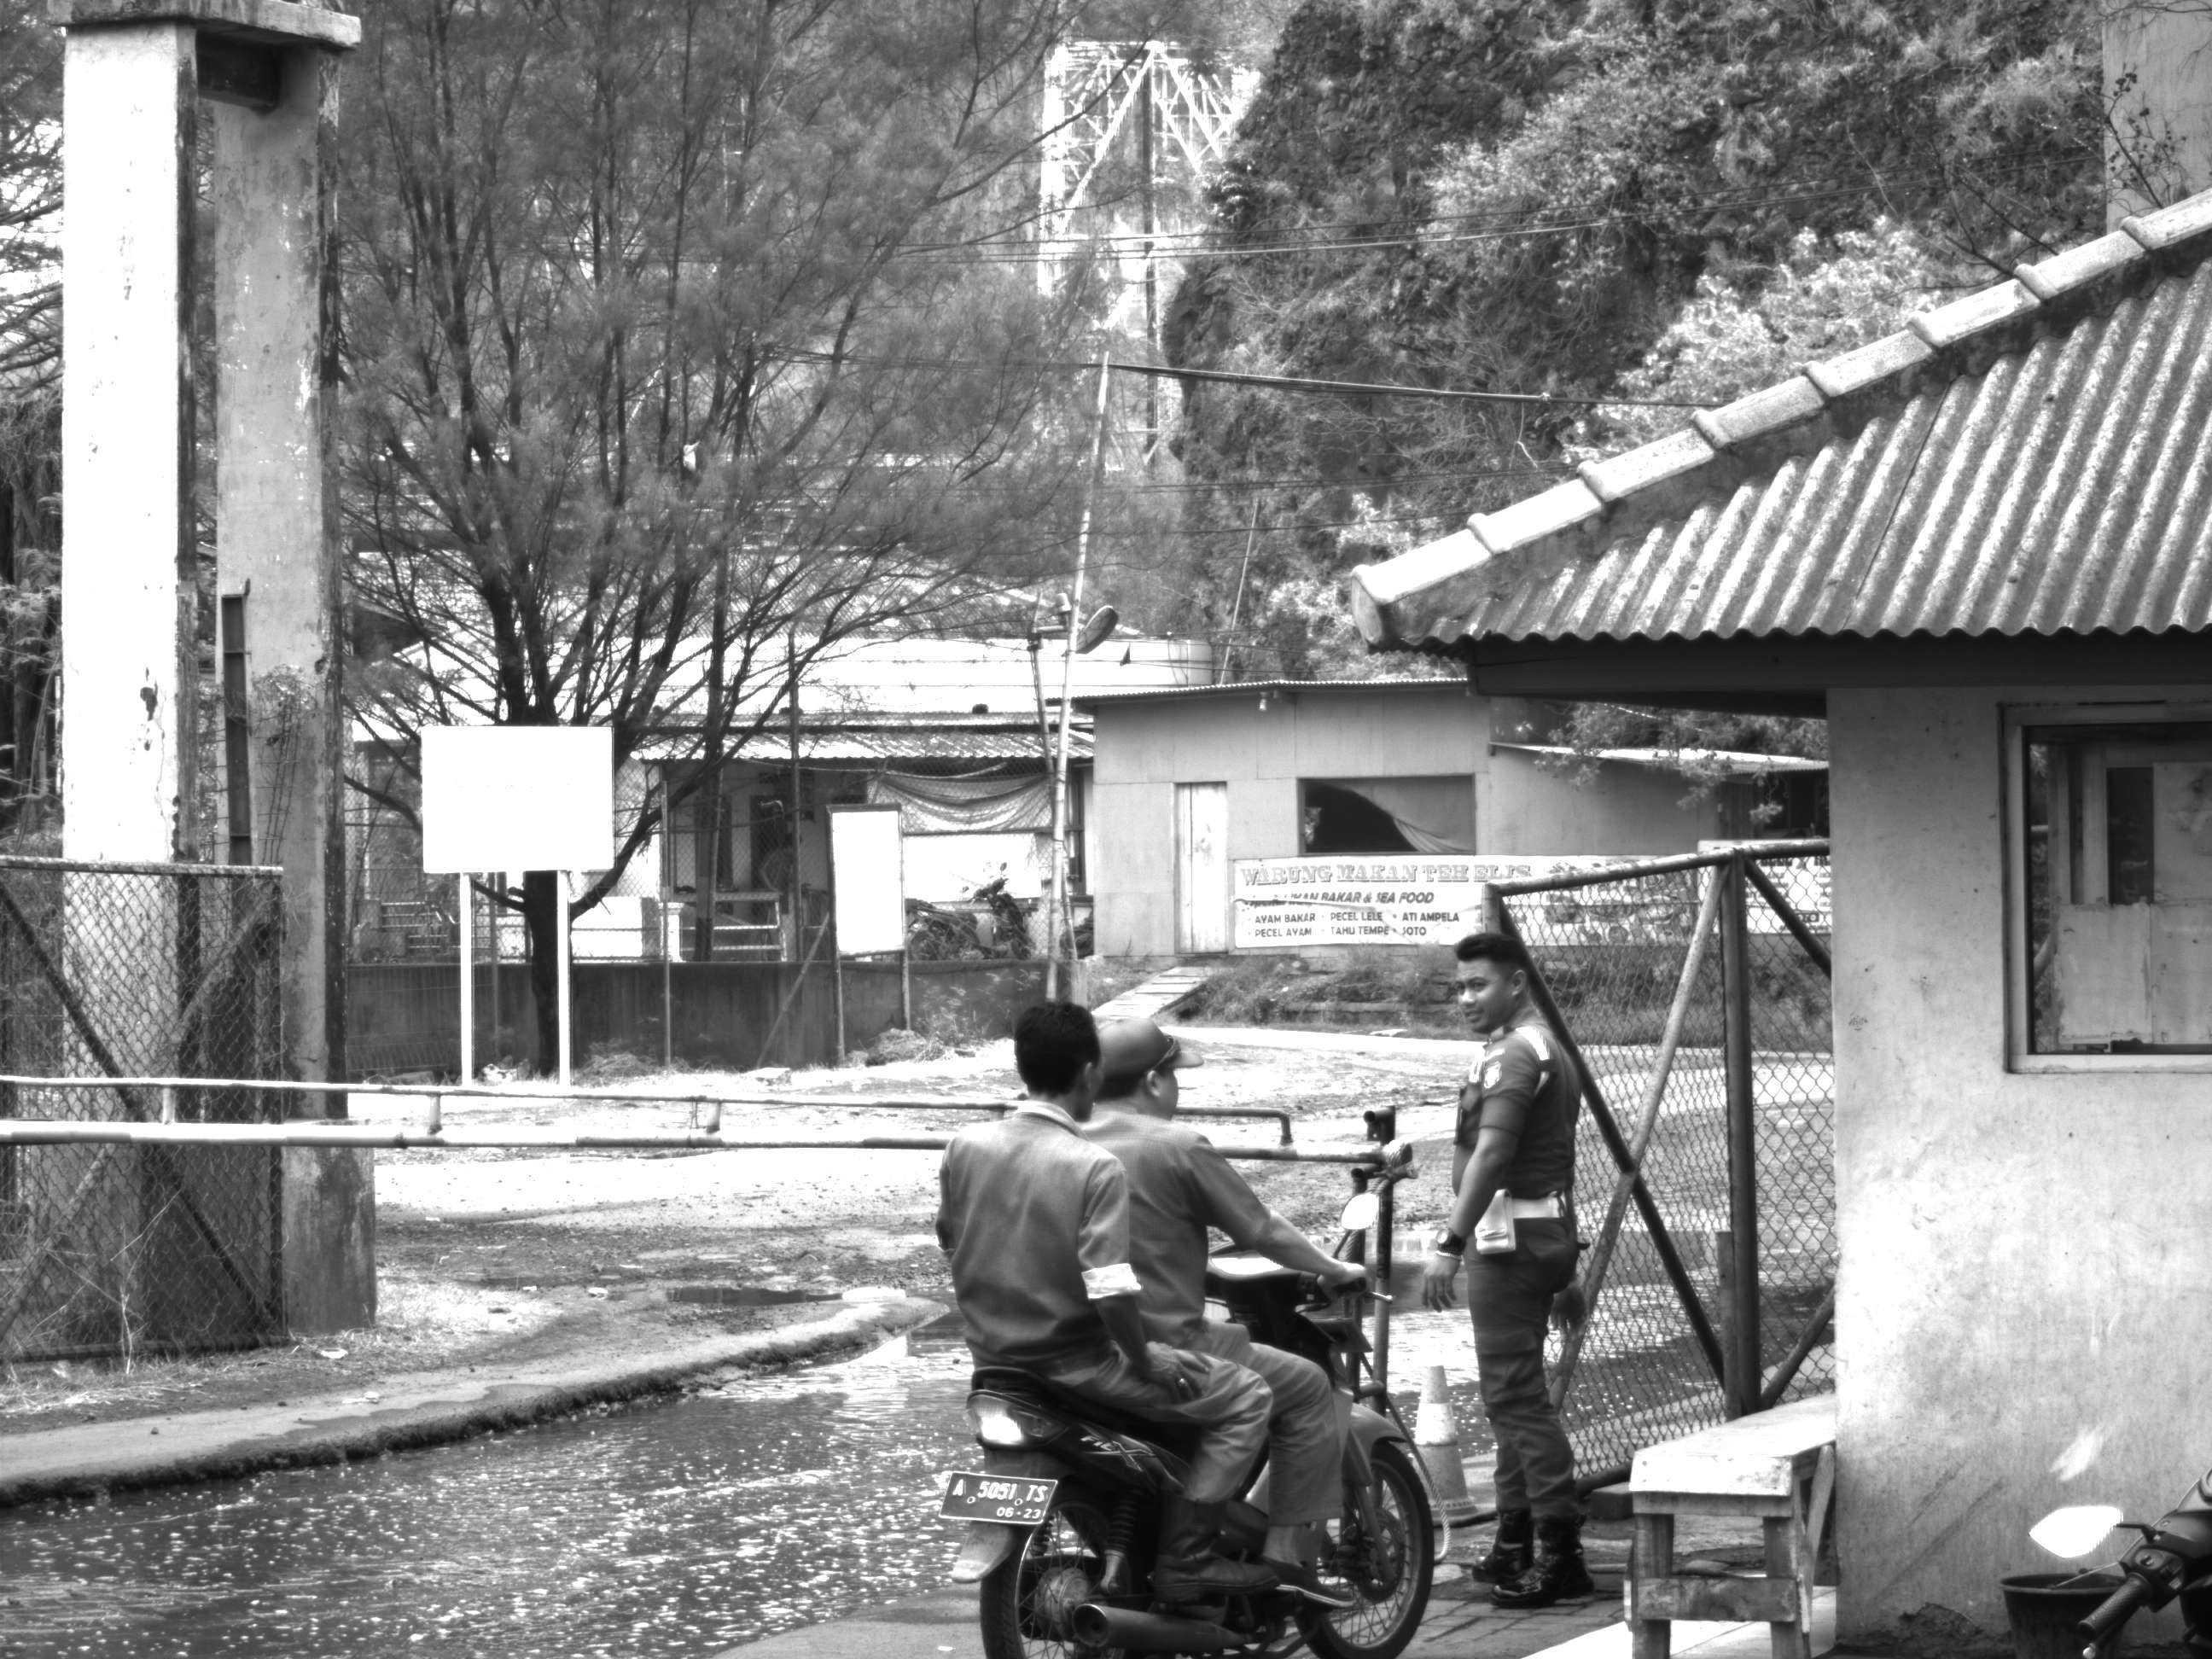day_motorcycle_rear: (909, 1314, 1198, 1659)
plate: (942, 1464, 1059, 1525)
